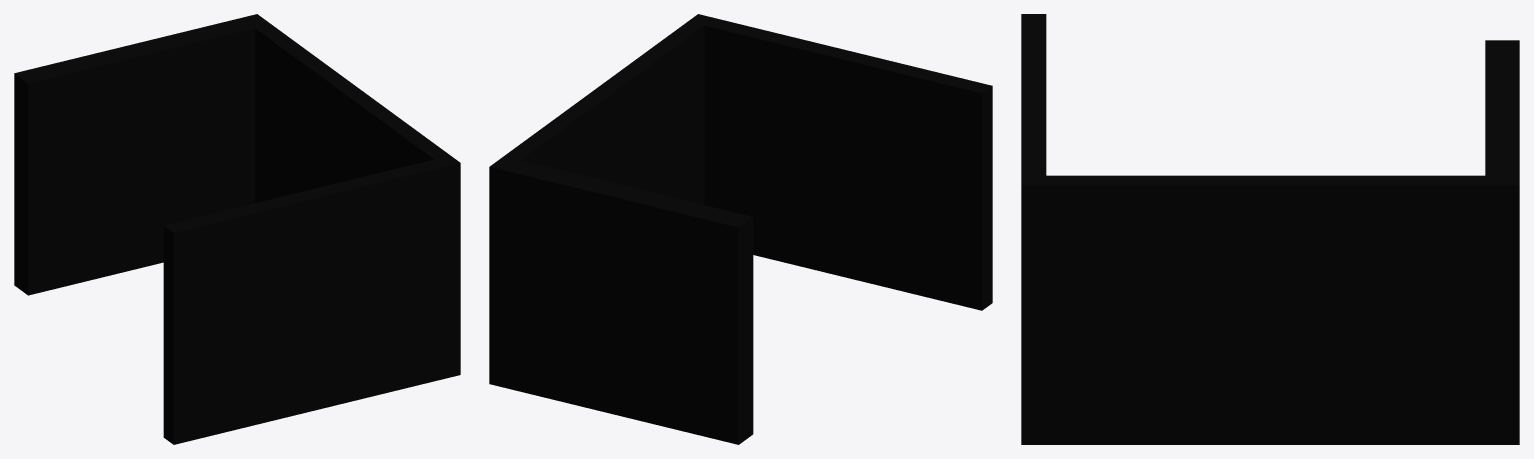
Rendered from left_leg.obj.
3 renders of one model, left to right at view 1: azimuth 30°, elevation 25°; view 2: azimuth 150°, elevation 25°; view 3: azimuth 270°, elevation 25°, orthographic. The views are drawn at different scales.
Visible parts, largest first — view 1: left_back_hem, left_front_hem, left_outer_hem; view 2: left_back_hem, left_front_hem, left_outer_hem; view 3: left_outer_hem, left_front_hem, left_back_hem.
Boxes of the visible parts, left/top/right/bottom form: left_back_hem: left=163, top=155, right=460, bottom=444; left_front_hem: left=14, top=14, right=270, bottom=295; left_outer_hem: left=255, top=24, right=450, bottom=203; left_back_hem: left=688, top=14, right=992, bottom=310; left_front_hem: left=489, top=156, right=753, bottom=444; left_outer_hem: left=504, top=21, right=704, bottom=204; left_outer_hem: left=1046, top=175, right=1485, bottom=444; left_front_hem: left=1485, top=40, right=1519, bottom=444; left_back_hem: left=1021, top=14, right=1046, bottom=444.
Bounding box in the file's own units: 4.25 × 3 × 5.22.
